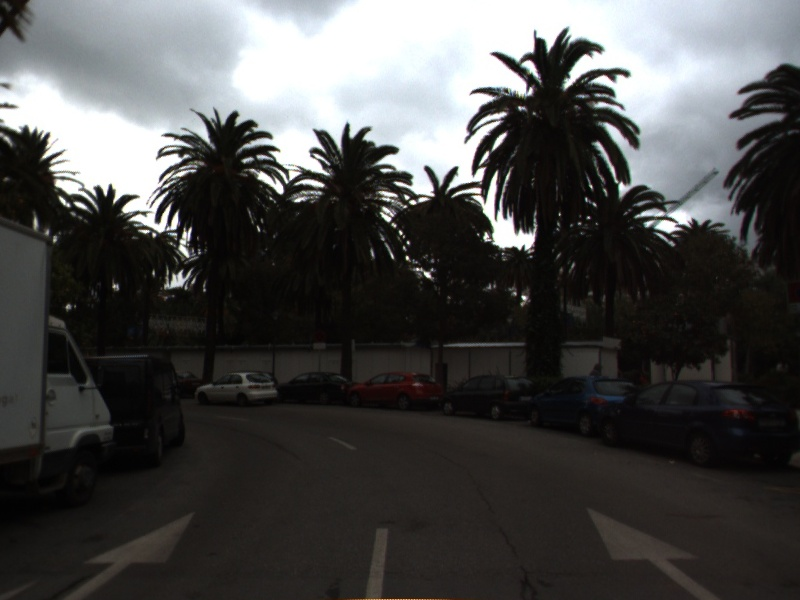STRAIGHT: (584, 505, 723, 600), (58, 509, 199, 600)
